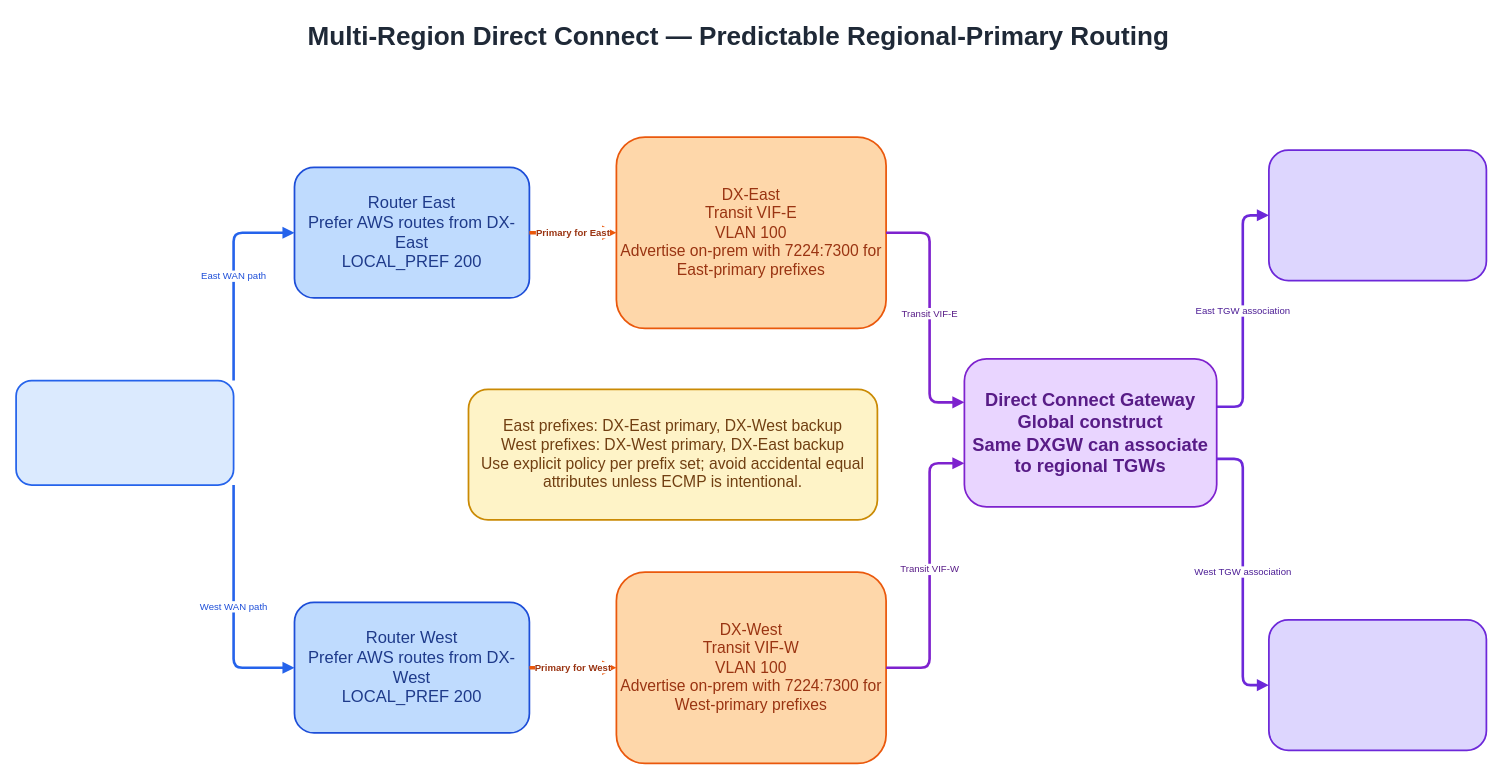
The diagram is 1502 pixels wide and 779 high, and some of its shapes have lost their labels. The shapes that lost their labels are listed below. From the top down, each one's centre as x and y in pixels, then its label:
At point (1377, 215): "TGW us-east-1 East VPC routes 10.10.0.0/16, 10.20.0.0/16".
At point (124, 432): "On-Premises WAN 192.168.0.0/16".
At point (1377, 685): "TGW us-west-2 West VPC routes 10.30.0.0/16, 10.40.0.0/16".
